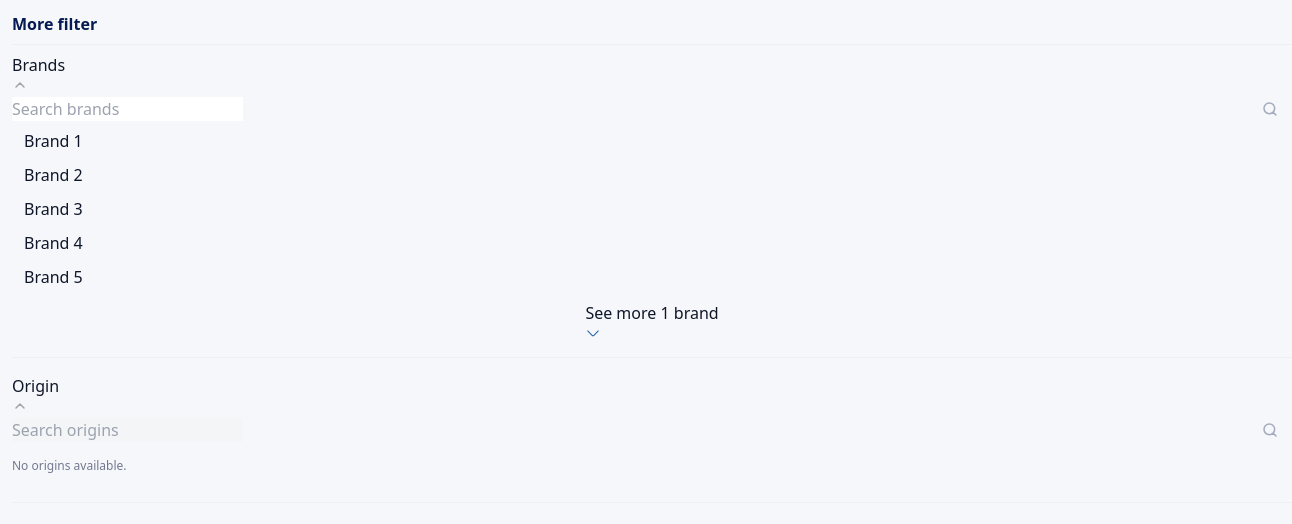
CatalogFilters brands › shows five checkboxes, expands the list and searches hidden brands
This screenshot has width=1292, height=524.
Click the button "See more 1 brand" at [652, 321], box [585, 301, 719, 341]
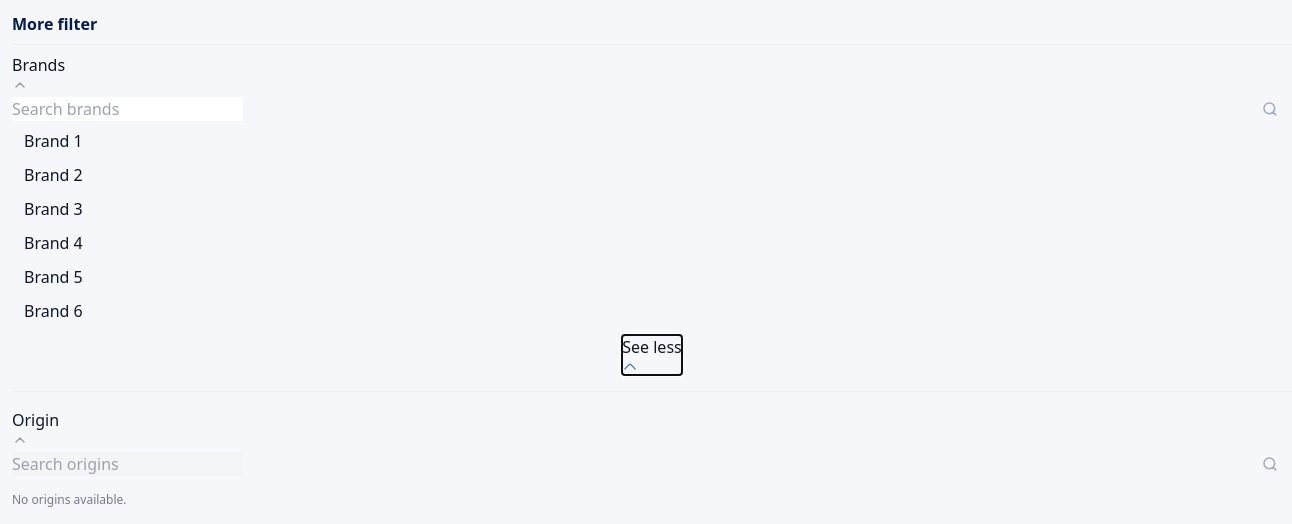
Click the button "See less" at [652, 355], box [622, 335, 682, 375]
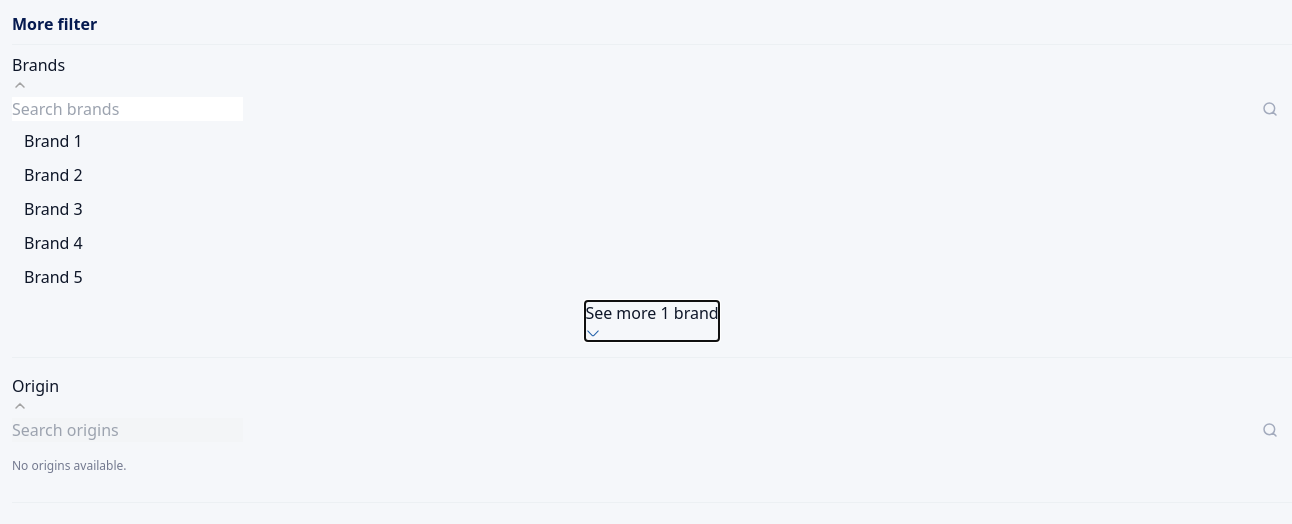
Type "Brand 6" into the field labelled "Search brands" at [128, 109], box [12, 97, 243, 121]
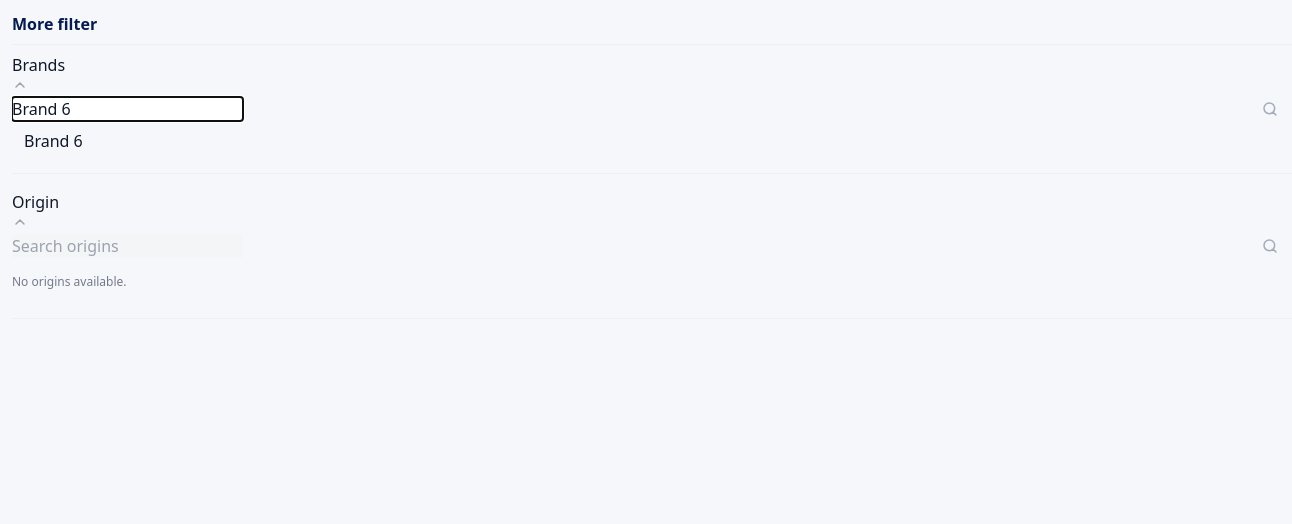
Check: the button "Brand 6" is shown, box [24, 129, 83, 153]
